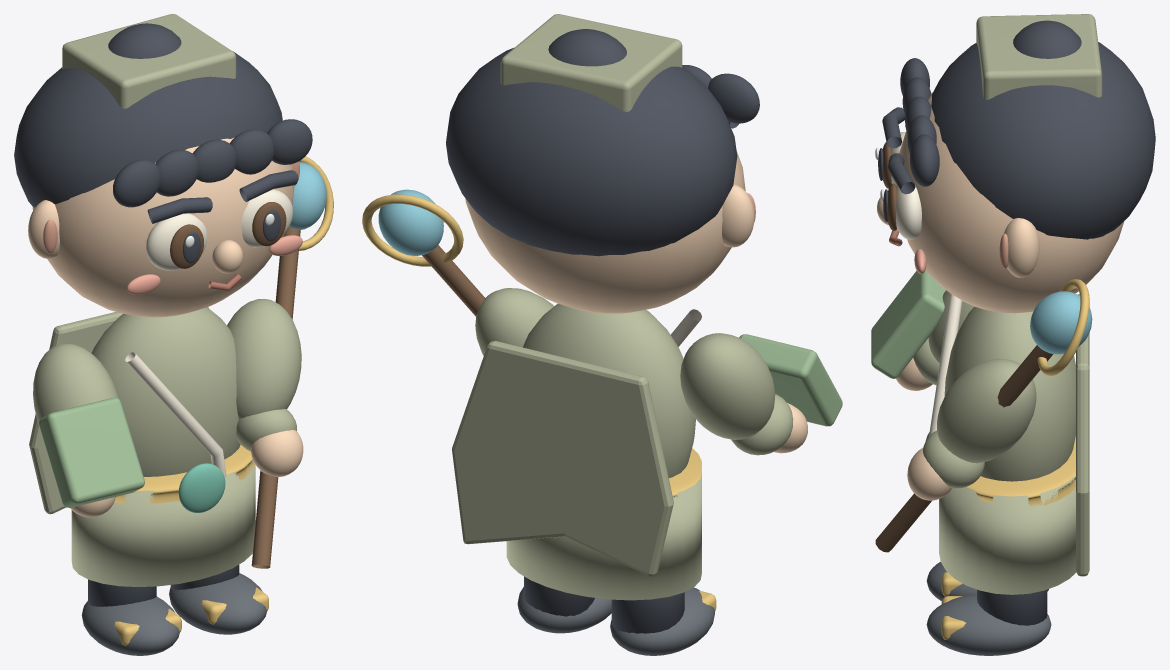
The model's file is zhangzhongjing.fbx.
3 views of the same model, side by side, from view 1: azimuth 30°, elevation 25°; view 2: azimuth 150°, elevation 25°; view 3: azimuth 270°, elevation 25° (orthographic). The views are drawn at different scales.
Visible parts, largest first — view 1: hair_mass, face, body, robe_skirt, medicine_book, scholar_crown, sleeve, sleeve.001, boot, boot.001, spell_staff, cape (+28 smaller); view 2: hair_mass, cape, face, body, robe_skirt, scholar_crown, sleeve.001, medicine_book, sleeve, boot, spell_gem, leg (+10 smaller); view 3: hair_mass, face, robe_skirt, body, scholar_crown, sleeve, medicine_book, boot.001, cape, spell_gem, spell_staff, belt (+20 smaller).
Boxes of the visible parts, x1,y1,x2,y2 form: hair_mass: [14, 51, 282, 207]; face: [32, 137, 294, 317]; body: [91, 307, 240, 476]; robe_skirt: [71, 459, 255, 586]; medicine_book: [39, 398, 144, 507]; scholar_crown: [62, 14, 236, 108]; sleeve: [227, 299, 301, 419]; sleeve.001: [33, 343, 118, 423]; boot: [81, 596, 179, 655]; boot.001: [169, 573, 266, 634]; spell_staff: [251, 227, 300, 568]; cape: [29, 307, 208, 514]; hair_mass: [446, 48, 737, 256]; cape: [452, 341, 673, 576]; face: [465, 151, 745, 313]; body: [523, 303, 695, 477]; robe_skirt: [506, 472, 701, 600]; scholar_crown: [500, 14, 682, 111]; sleeve.001: [680, 333, 775, 439]; medicine_book: [739, 334, 842, 426]; sleeve: [475, 288, 553, 355]; boot: [610, 587, 714, 655]; spell_gem: [378, 189, 443, 255]; leg: [611, 592, 684, 633]; hair_mass: [931, 42, 1155, 239]; face: [896, 92, 1124, 313]; robe_skirt: [939, 477, 1076, 594]; body: [944, 306, 1075, 481]; scholar_crown: [976, 14, 1102, 99]; sleeve: [937, 358, 1036, 463]; medicine_book: [871, 270, 945, 378]; boot.001: [926, 594, 1051, 655]; cape: [1076, 294, 1089, 576]; spell_gem: [1030, 291, 1092, 354]; spell_staff: [875, 345, 1053, 552]; belt: [957, 436, 1075, 507].
Bounding box in the file's own units: 1.55 × 2.44 × 1.05.
